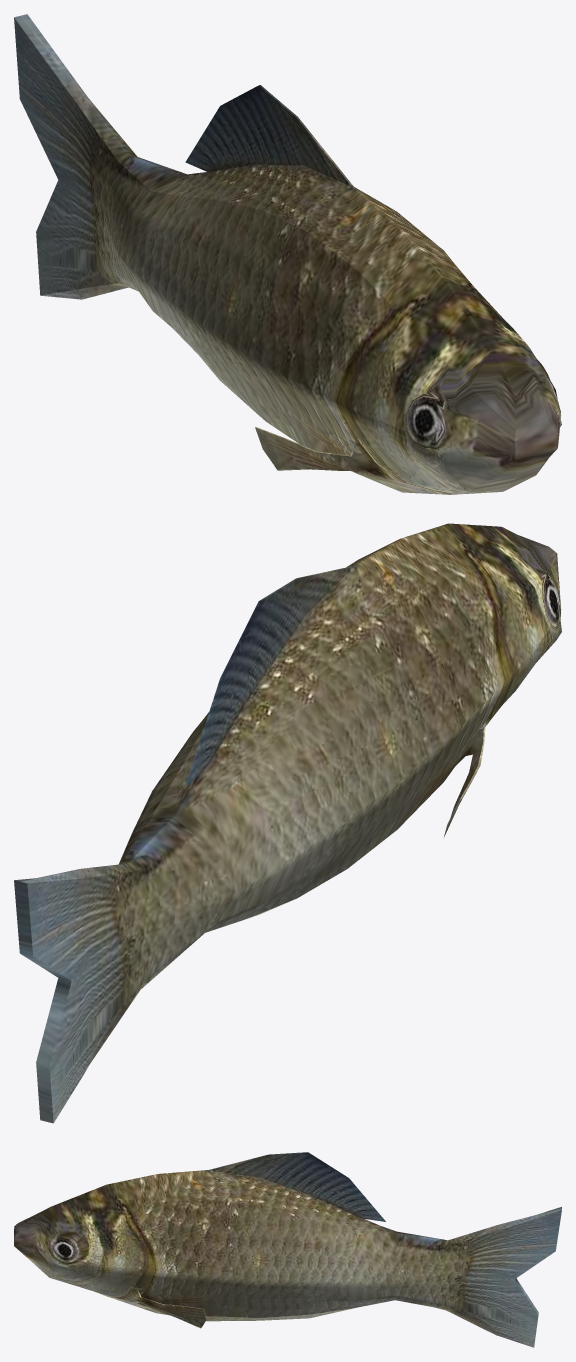
File: ginbuna_model.fbx
3 renders of one model, top to bottom at view 1: azimuth 30°, elevation 25°; view 2: azimuth 150°, elevation 25°; view 3: azimuth 270°, elevation 25°, orthographic. The views are drawn at different scales.
Parts seen in each view (by area): view 1: pCube1; view 2: pCube1; view 3: pCube1.
Boxes of the visible parts, bbox=[...] form: pCube1: bbox=[14, 14, 561, 494]; pCube1: bbox=[14, 523, 561, 1123]; pCube1: bbox=[14, 1152, 561, 1347].
Bounding box in the file's own units: 2.31 × 3.9 × 10.
